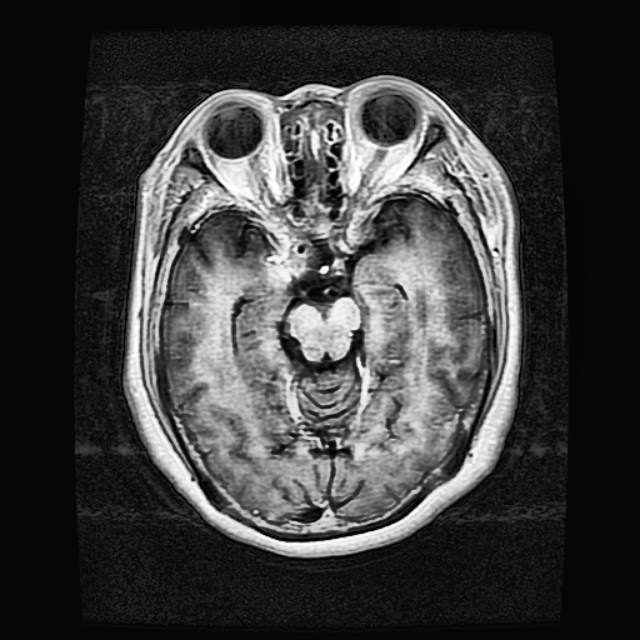Pituitary: (262, 262, 293, 292)
